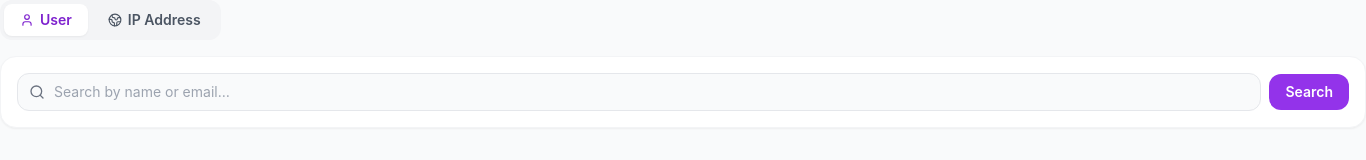
InvestigateTab › says when a search found no one, instead of showing nothing
Type "zed" into the field named "Search people by name or email". click: (639, 92)
box: [17,73,1262,111]
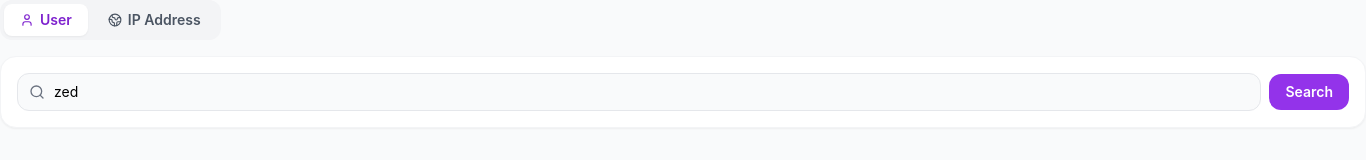
Click the button "Search". click: (1309, 92)
box: [1270,74,1349,110]
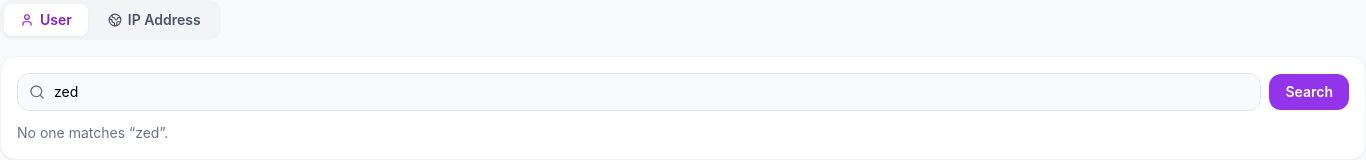
Check: the text "No one matches “zed”." is shown, box [17,124,168,141]
